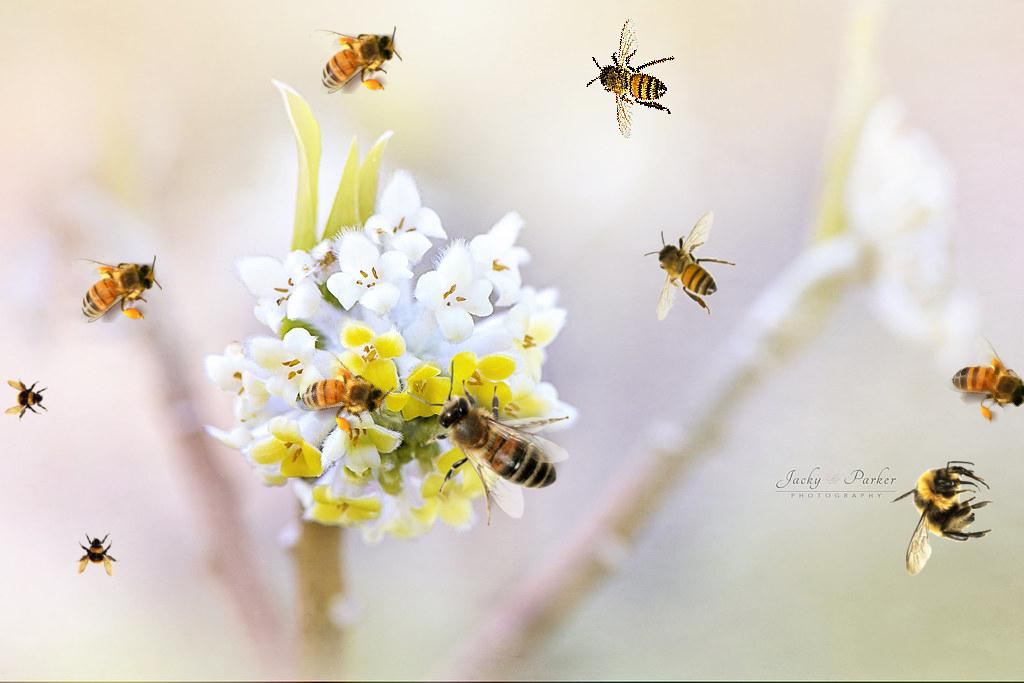Bee: (407, 360, 569, 527), (566, 7, 699, 147), (284, 341, 400, 448), (887, 461, 994, 576), (933, 326, 1024, 441), (643, 210, 737, 321), (309, 26, 402, 94), (69, 255, 162, 323), (76, 533, 120, 577), (4, 378, 48, 422)
